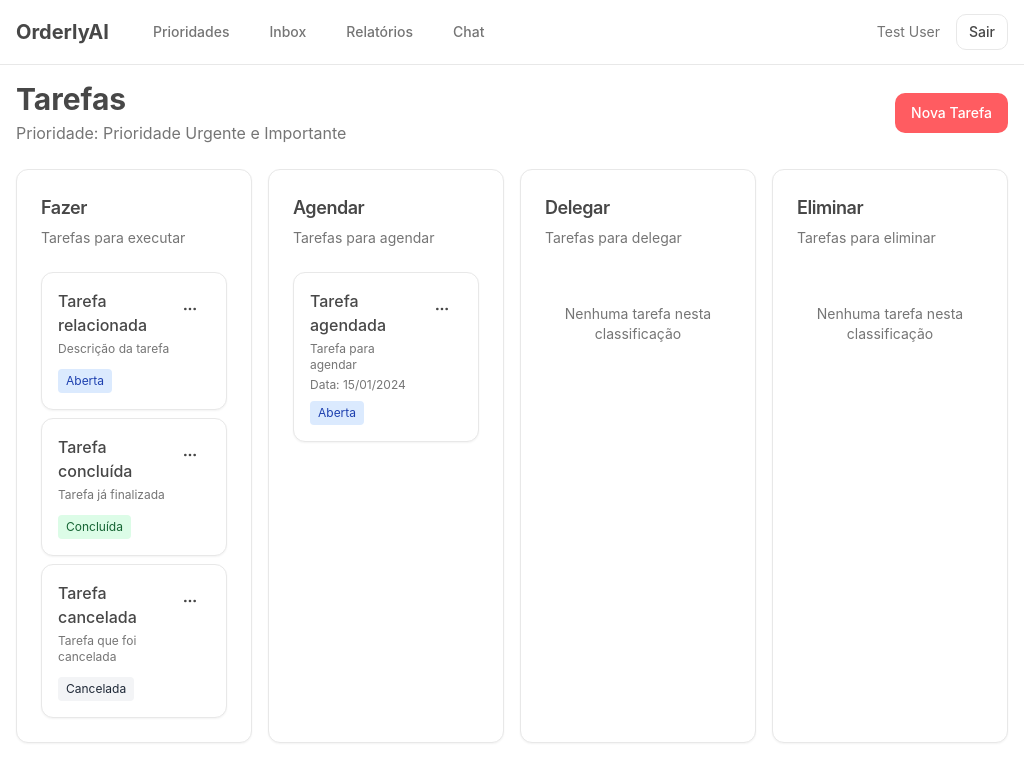
Test: TasksPage › Edição de Tarefa › deve atualizar tarefa com sucesso
Check: the heading "Tarefa relacionada" is shown, box left=58, top=291, right=147, bottom=335
Click the 3rd button at point(190, 309), box left=170, top=289, right=210, bottom=329
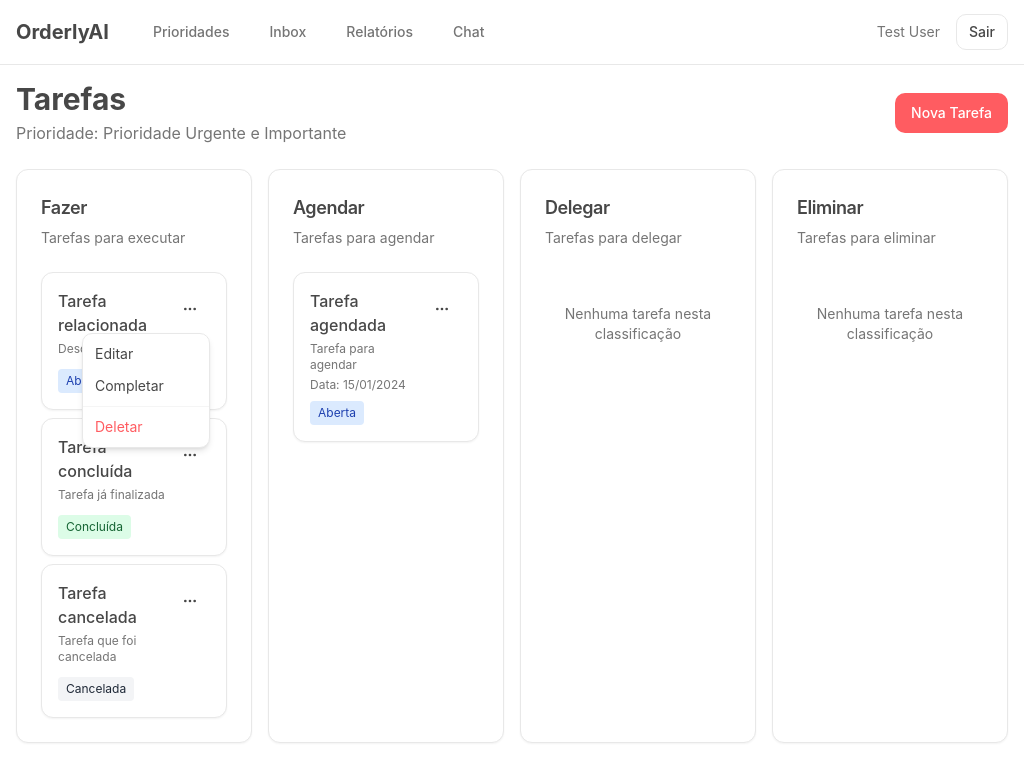
Check: the menu item "Editar" is shown
Click the menu item "Editar" at point(114, 354), box left=95, top=345, right=133, bottom=362
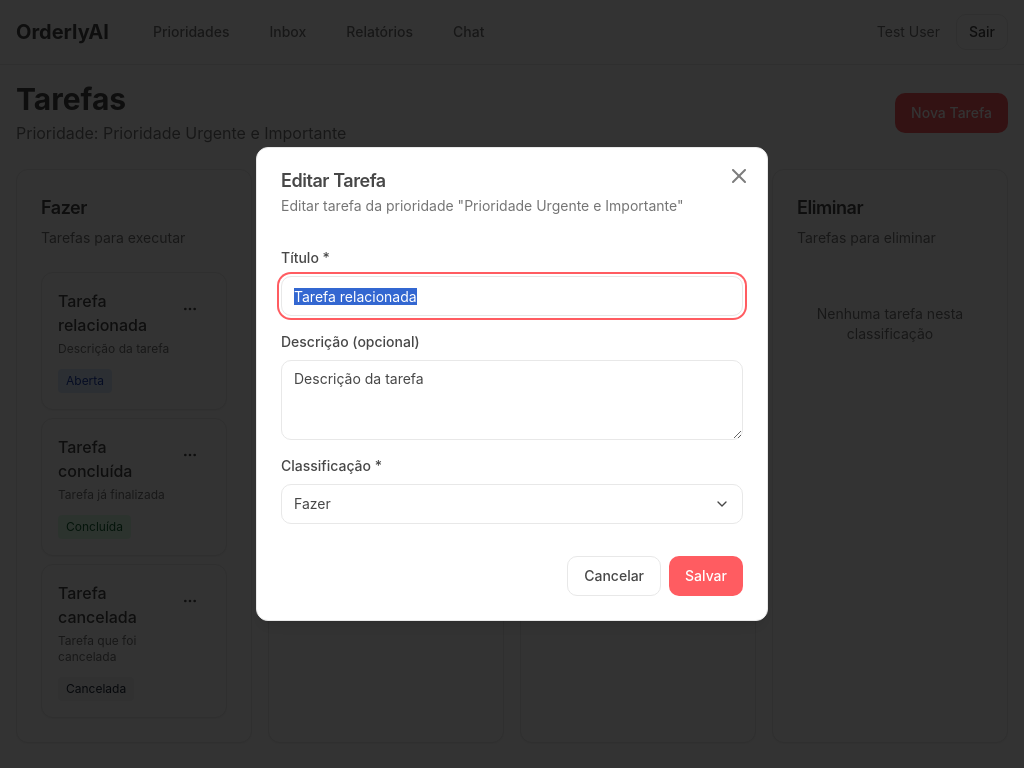
Check: the dialog "Editar Tarefa" is shown, box left=256, top=147, right=768, bottom=621
Replace the text in the field with placeholder "Digite o título..." with "Tarefa Editada" at point(512, 296), box left=281, top=276, right=743, bottom=316
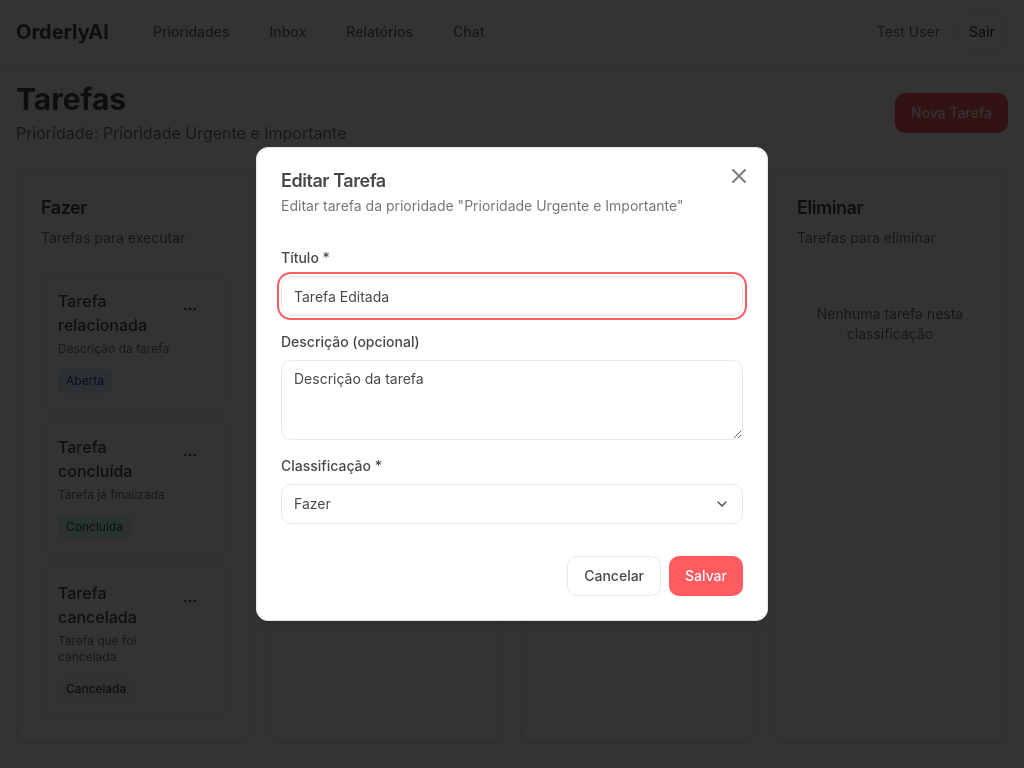
Click the button "Salvar" at point(706, 576), box left=669, top=556, right=743, bottom=596
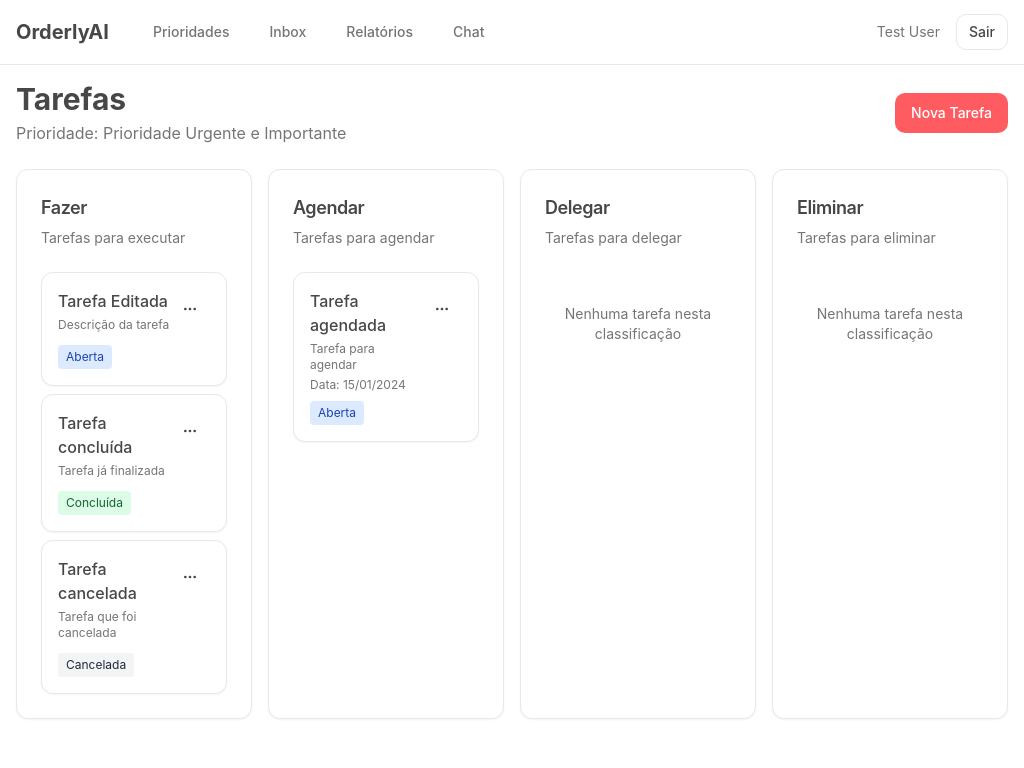
Check: the heading "Editar Tarefa" is gone
